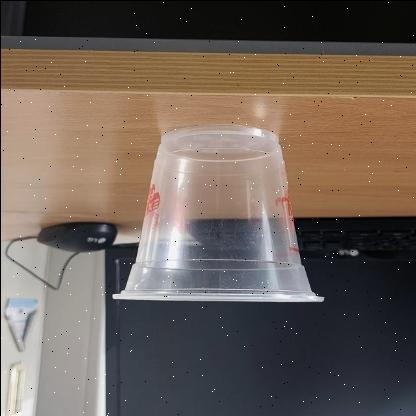Others: (110, 124, 326, 304)
